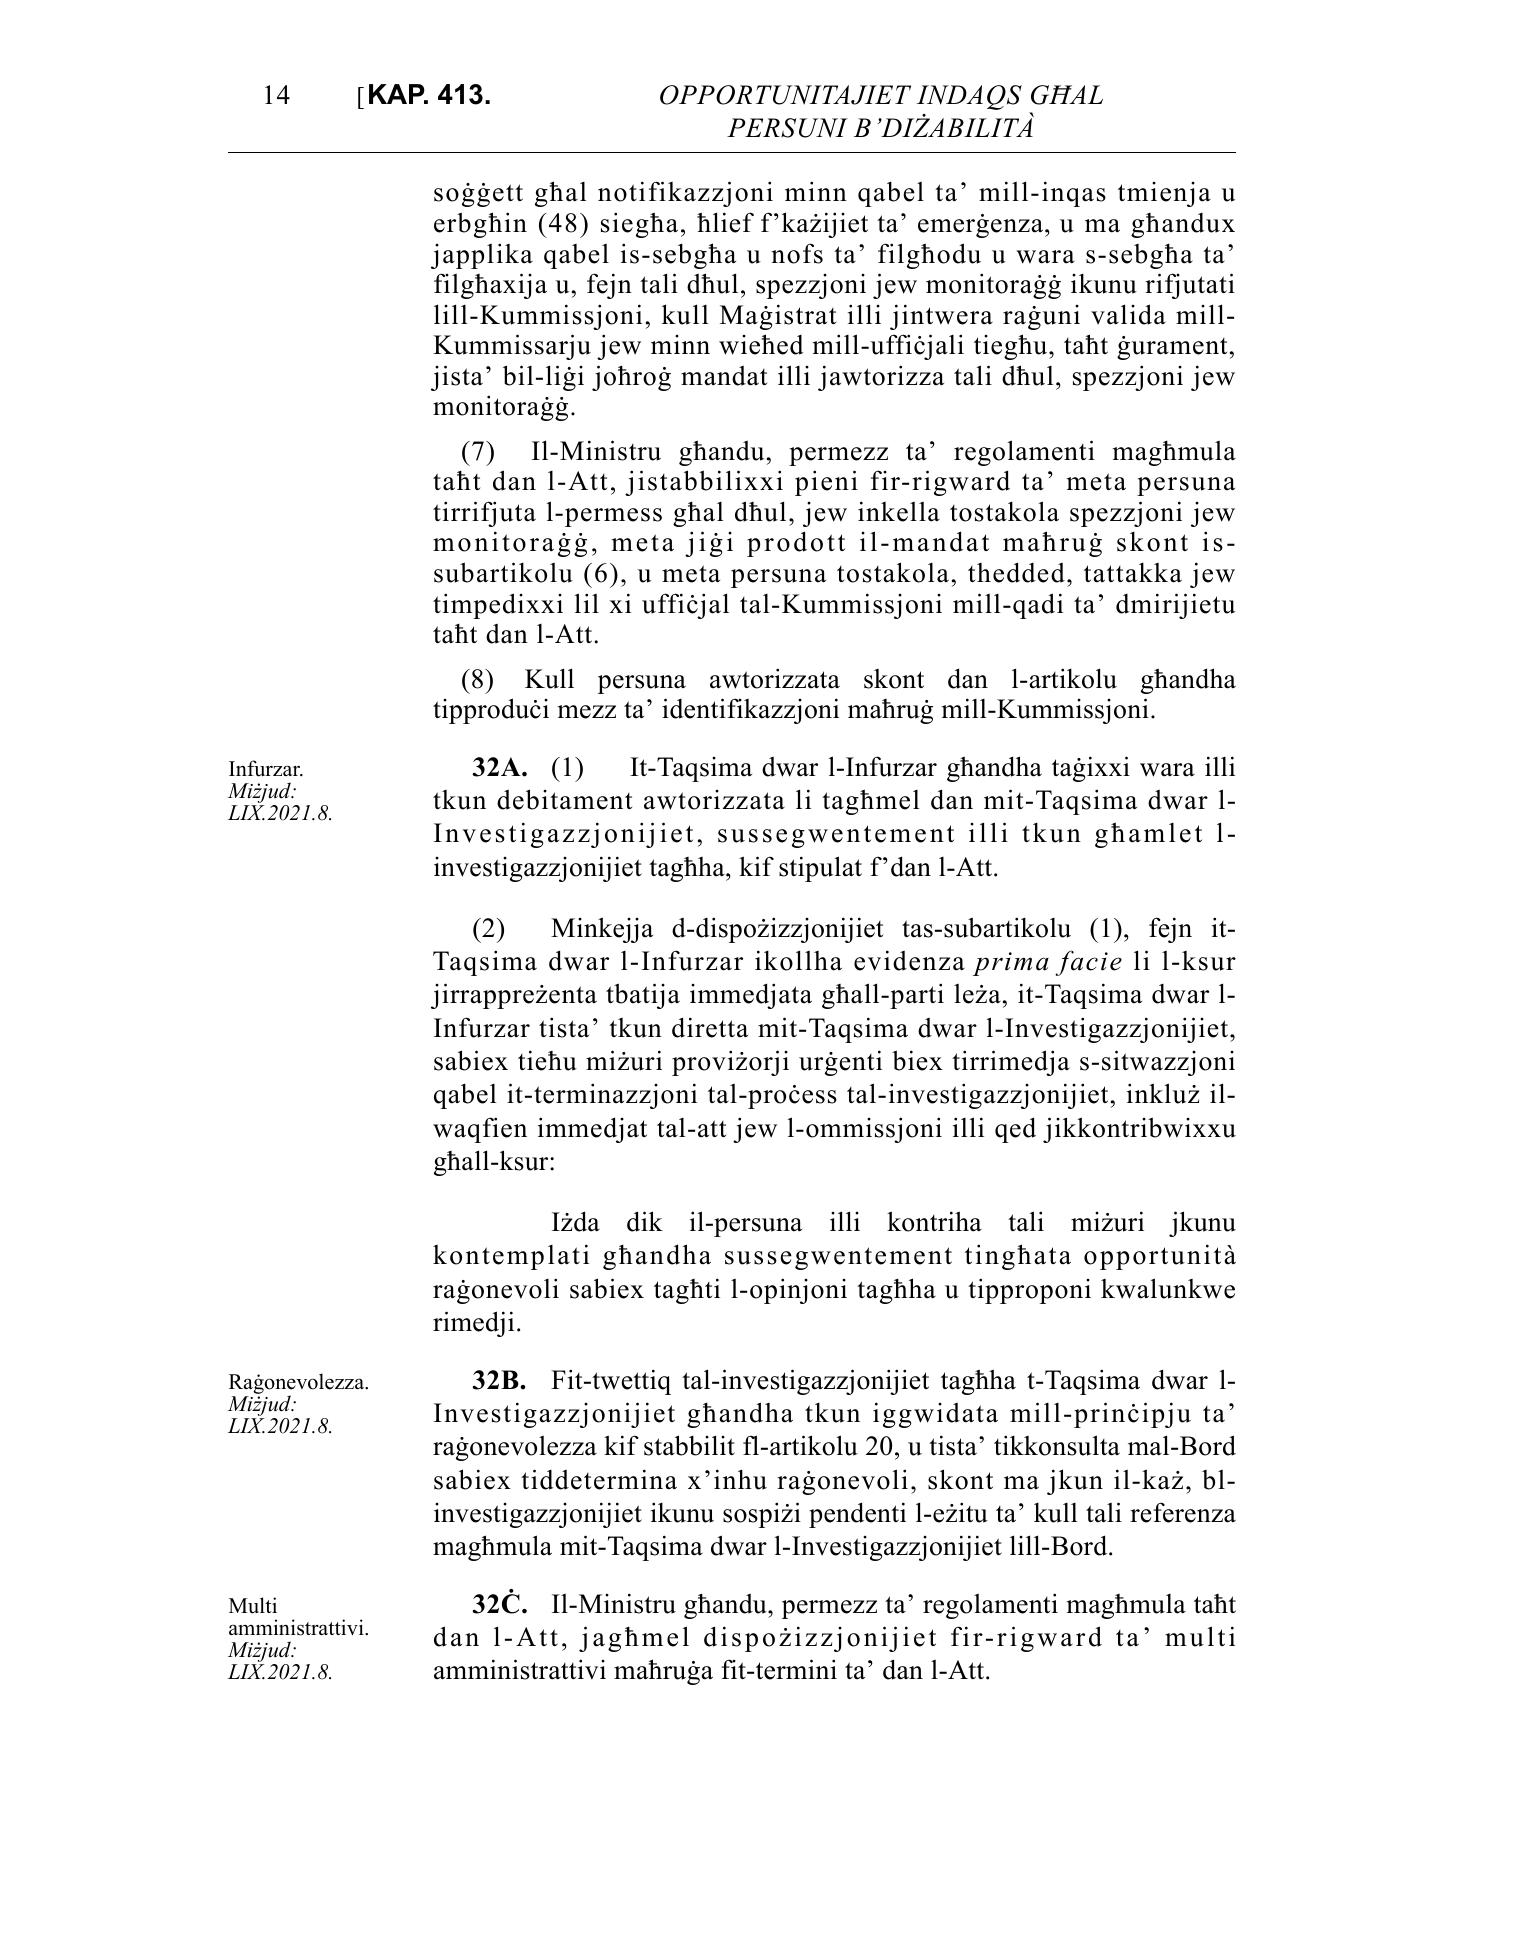text: (412, 167, 1254, 1695)
